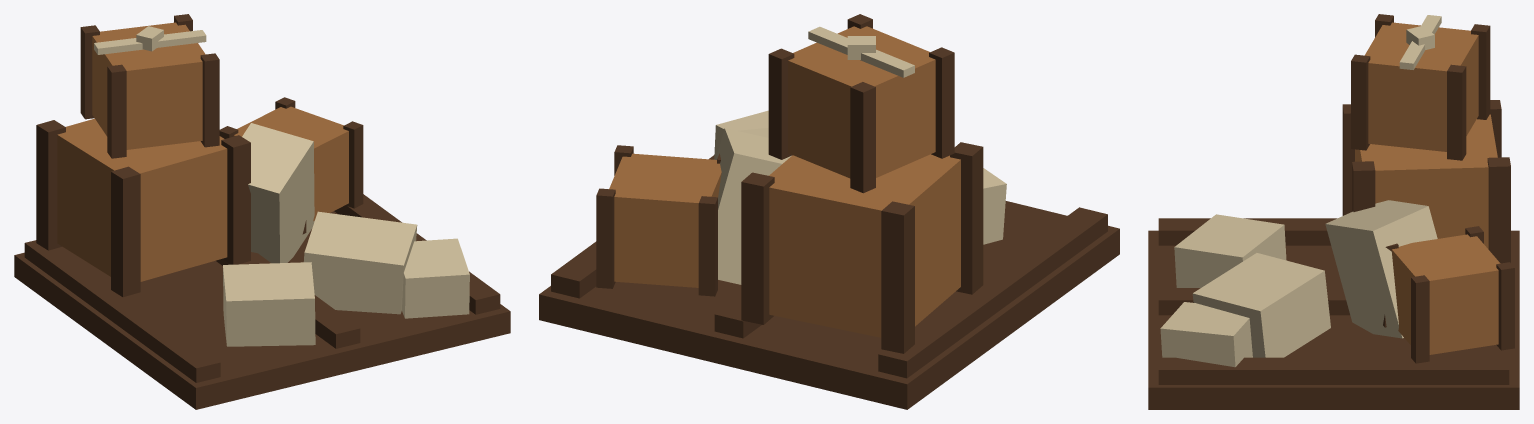
Rendered from storage_pile_t1.glb.
3 renders of one model, left to right at view 1: azimuth 30°, elevation 25°; view 2: azimuth 150°, elevation 25°; view 3: azimuth 270°, elevation 25°, orthographic. The views are drawn at different scales.
Parts seen in each view (by area): view 1: pallet, crate_big, crate_top, sack_0, sack_leaning, sack_1, pallet_skid_0, sack_2, crate_small, crate_big_post_3, crate_big_post_1, crate_big_post_2 (+8 smaller); view 2: pallet, crate_big, crate_top, crate_small, pallet_skid_0, crate_big_post_2, sack_leaning, crate_big_post_0, crate_big_post_3, crate_top_post_2, crate_top_post_0, crate_top_post_3 (+8 smaller); view 3: pallet, crate_top, crate_small, pallet_skid_2, crate_big, sack_0, sack_leaning, sack_1, sack_2, pallet_skid_0, crate_big_post_0, crate_top_post_0 (+10 smaller).
Part boxes in pixels (x1,y1,x2,y2): pallet: (14,211,510,409); crate_big: (57,118,227,281); crate_top: (92,22,205,149); sack_0: (303,211,417,314); sack_leaning: (242,123,314,263); sack_1: (223,262,315,346); pallet_skid_0: (24,240,220,382); sack_2: (402,238,469,318); crate_small: (233,106,348,221); crate_big_post_3: (111,166,140,297); crate_big_post_1: (221,135,250,264); crate_big_post_2: (36,120,65,250); pallet: (539,201,1119,409); crate_big: (769,154,960,337); crate_top: (788,26,935,178); crate_small: (609,153,721,287); pallet_skid_0: (878,207,1107,378); crate_big_post_2: (881,201,914,353); sack_leaning: (715,128,791,284); crate_big_post_0: (741,172,774,324); crate_big_post_3: (950,142,983,294); crate_top_post_2: (850,82,875,193); crate_top_post_0: (768,48,794,159); crate_top_post_3: (929,47,954,158); pallet: (1148,230,1519,409); crate_top: (1364,22,1478,151); crate_small: (1391,234,1500,354); pallet_skid_2: (1158,357,1509,384); crate_big: (1355,114,1497,249); sack_0: (1192,253,1330,357); sack_leaning: (1325,200,1437,338); sack_1: (1174,214,1286,287); sack_2: (1160,302,1252,367); pallet_skid_0: (1158,218,1336,245); crate_big_post_0: (1487,157,1510,263); crate_top_post_0: (1447,64,1466,160).
Size of what is drawn, in the model's own units: 1.8 by 1.41 by 1.8.
